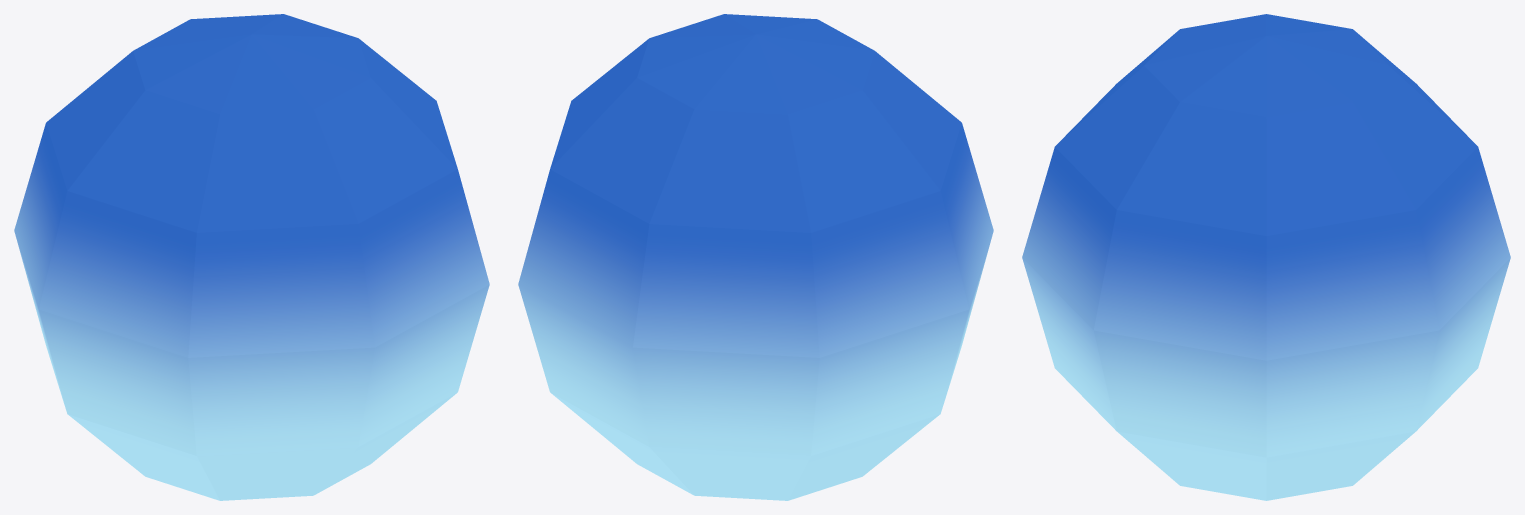
File: gintoki_sketchfab.fbx
3 views of the same model, side by side, from view 1: azimuth 30°, elevation 25°; view 2: azimuth 150°, elevation 25°; view 3: azimuth 270°, elevation 25° (orthographic).
Parts seen in each view (by area): view 1: background; view 2: background; view 3: background.
Part boxes in pixels (x1,y1,x2,y2): background: [14, 14, 489, 500]; background: [518, 14, 993, 500]; background: [1022, 14, 1510, 500].
Size of the model in its own units: 6856 by 6856 by 6856.
